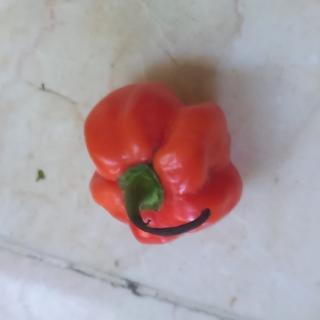Grade-B: (77, 70, 244, 246)
